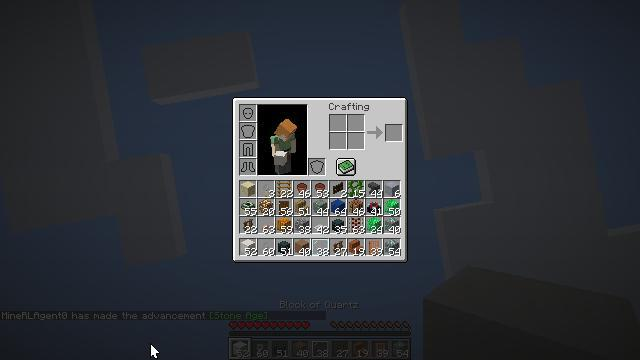cursor: (150, 343, 160, 359)
